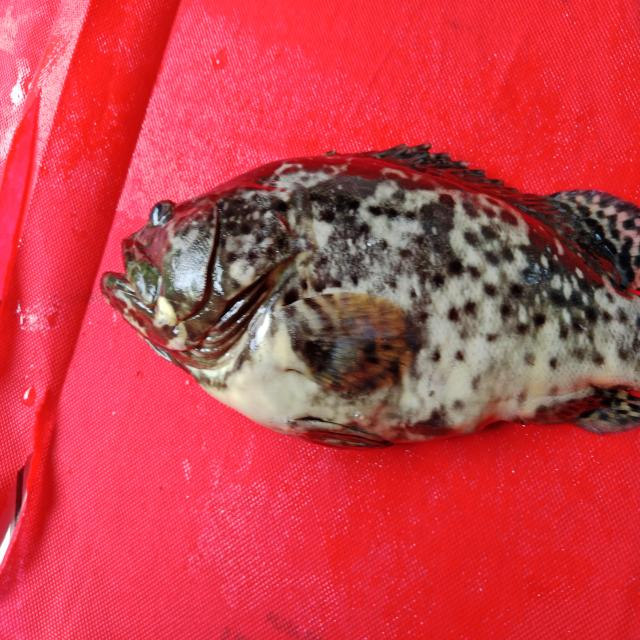ikan: (87, 143, 635, 455)
